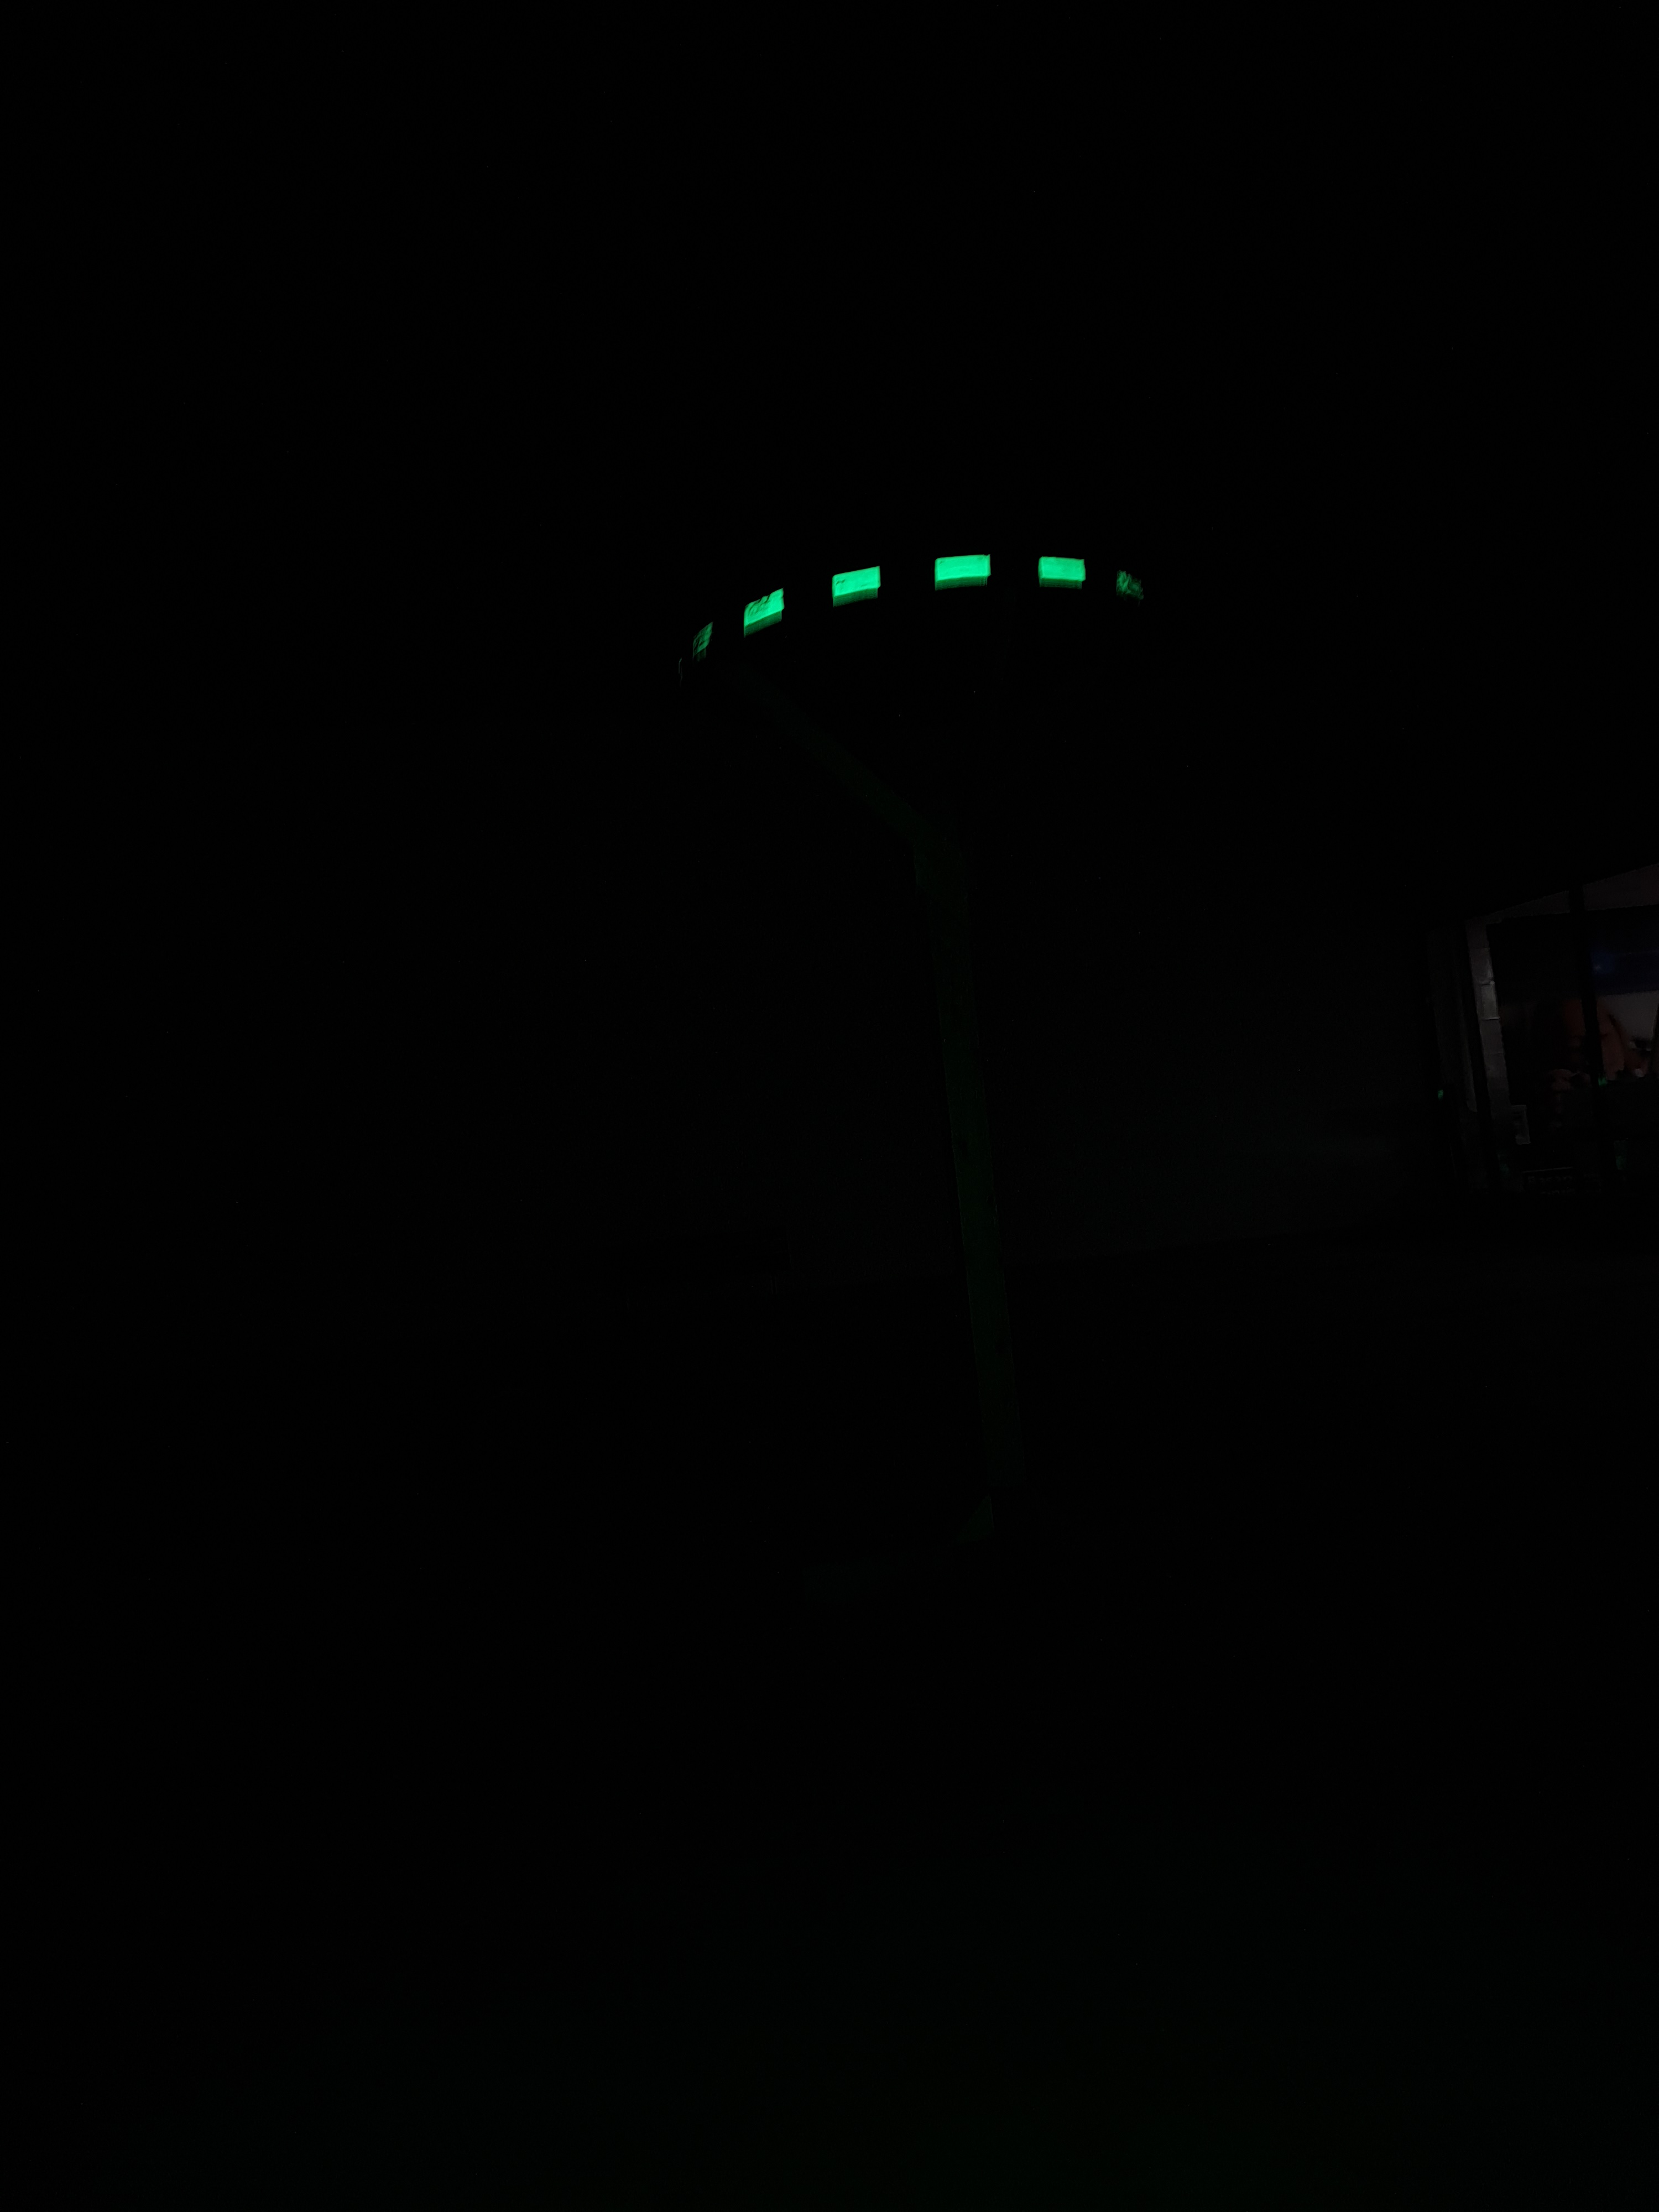hoop: (664, 528, 1194, 685)
